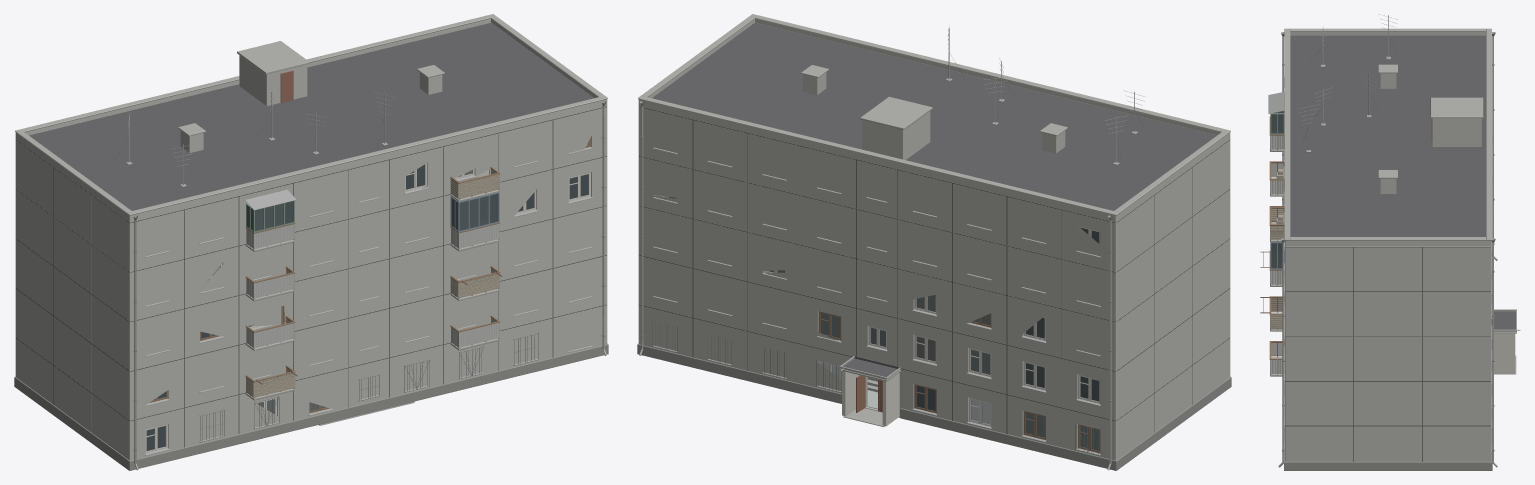
File: Nash_Dom (4).fbx
The picture shows the model from 3 angles, left to right: view 1: azimuth 30°, elevation 25°; view 2: azimuth 150°, elevation 25°; view 3: azimuth 270°, elevation 25°; orthographic projection. The views are drawn at different scales.
Parts seen in each view (by area): view 1: NashDom_Walls_upper, NashDom_Roof_upper, NashDom_Walls, NashDom_Balconies_upper, NashDom_Windows, NashDom_Windows_upper, NashDom_Balconies, NashDom_Drainpipes_upper; view 2: NashDom_Walls_upper, NashDom_Roof_upper, NashDom_Walls, NashDom_Walls_apartment, NashDom_Windows, NashDom_Walls_stair, NashDom_Entrance, NashDom_Windows_upper, NashDom_Windows_apartment, NashDom_Drainpipes_upper, NashDom_Windows_stair; view 3: NashDom_Roof_upper, NashDom_Walls_upper, NashDom_Walls, NashDom_Balconies_upper, NashDom_Entrance, NashDom_Drainpipes_upper, NashDom_Balconies, NashDom_Windows_upper.
Boxes of the visible parts, x1,y1,x2,y2 form: NashDom_Walls_upper: [15, 99, 607, 371]; NashDom_Roof_upper: [15, 14, 607, 215]; NashDom_Walls: [14, 255, 608, 470]; NashDom_Balconies_upper: [245, 167, 502, 350]; NashDom_Windows: [145, 296, 592, 455]; NashDom_Windows_upper: [145, 137, 592, 356]; NashDom_Balconies: [245, 315, 500, 400]; NashDom_Drainpipes_upper: [133, 101, 606, 463]; NashDom_Walls_upper: [638, 99, 1230, 371]; NashDom_Roof_upper: [638, 14, 1230, 215]; NashDom_Walls: [637, 255, 1231, 470]; NashDom_Walls_apartment: [913, 322, 1116, 421]; NashDom_Windows: [652, 296, 1100, 455]; NashDom_Walls_stair: [830, 305, 924, 374]; NashDom_Entrance: [839, 356, 900, 426]; NashDom_Windows_upper: [653, 147, 1100, 356]; NashDom_Windows_apartment: [912, 335, 1100, 406]; NashDom_Drainpipes_upper: [639, 101, 1112, 463]; NashDom_Windows_stair: [831, 315, 925, 360]; NashDom_Roof_upper: [1284, 14, 1491, 240]; NashDom_Walls_upper: [1284, 240, 1491, 381]; NashDom_Walls: [1284, 251, 1492, 470]; NashDom_Balconies_upper: [1260, 92, 1284, 331]; NashDom_Entrance: [1491, 309, 1520, 374]; NashDom_Drainpipes_upper: [1281, 32, 1495, 462]; NashDom_Balconies: [1260, 251, 1284, 376]; NashDom_Windows_upper: [1283, 77, 1492, 363].
Bounding box in the file's own units: 30.4 × 18.52 × 15.83.
